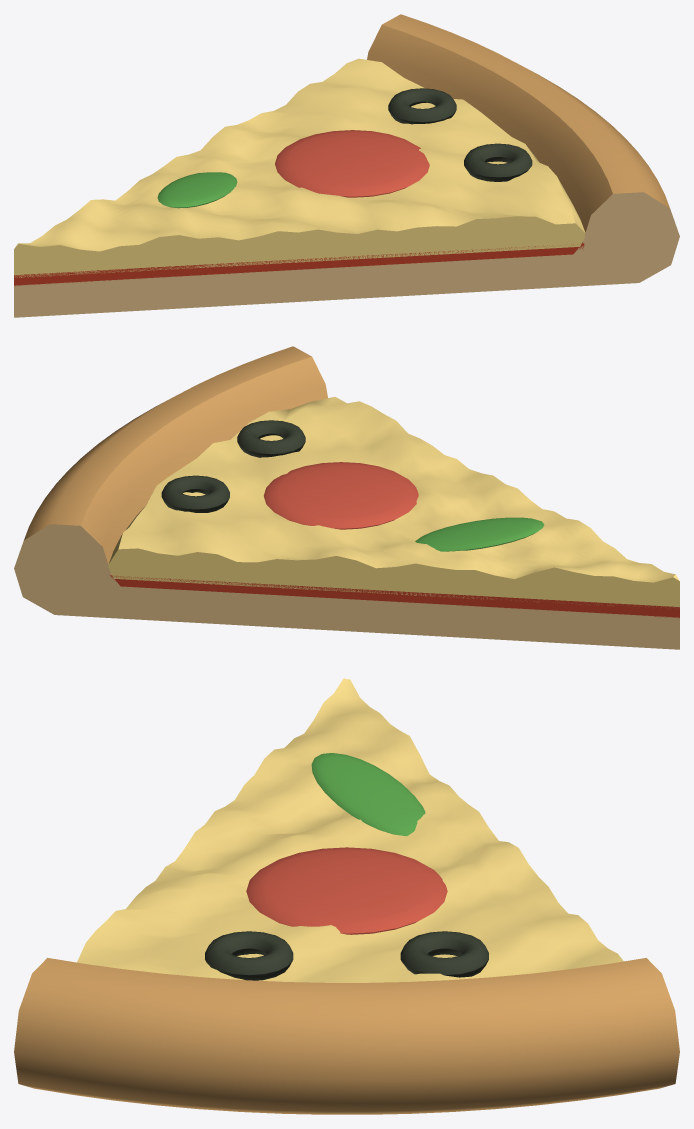
The picture shows the model from 3 angles, top to bottom: view 1: azimuth 30°, elevation 25°; view 2: azimuth 150°, elevation 25°; view 3: azimuth 270°, elevation 25°; orthographic projection. The views are drawn at different scales.
Visible parts, largest first — view 1: Part_02; view 2: Part_02; view 3: Part_02.
Part boxes in pixels (left/top/right/bottom): Part_02: left=14, top=14, right=679, bottom=317; Part_02: left=14, top=346, right=679, bottom=649; Part_02: left=14, top=678, right=679, bottom=1114.
Size of the model in its own units: 0.1511 by 0.0225 by 0.1157.
